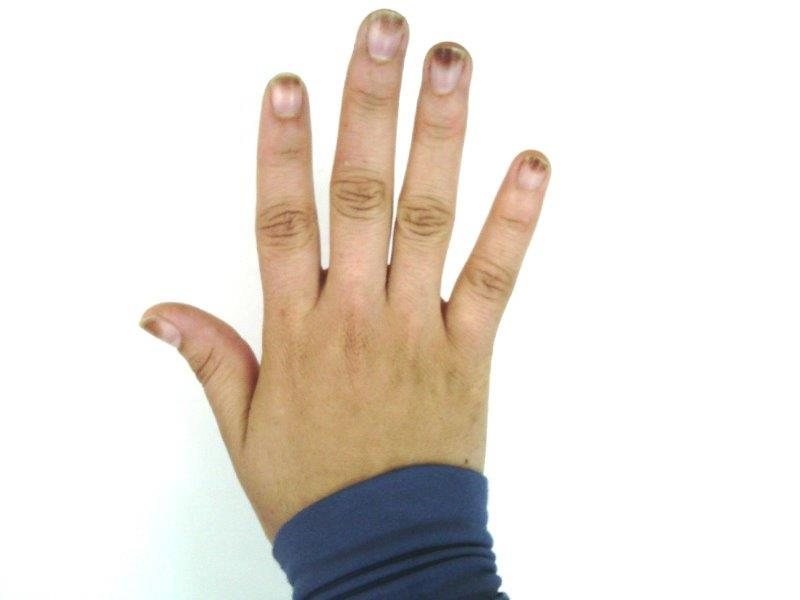hand: (140, 12, 549, 469)
